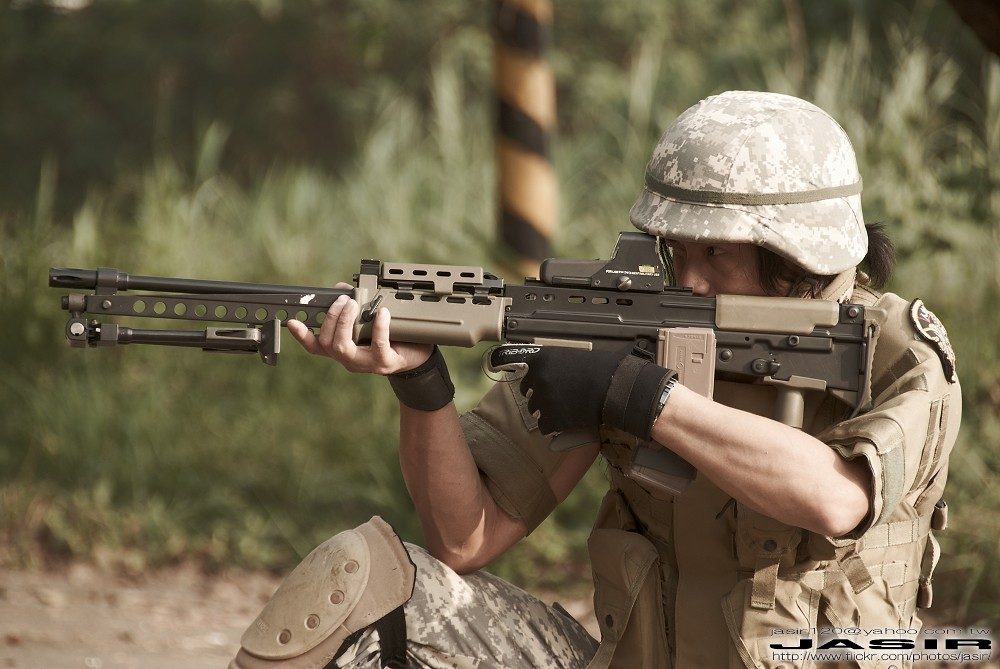gun: (37, 228, 884, 523)
person: (288, 87, 960, 669)
